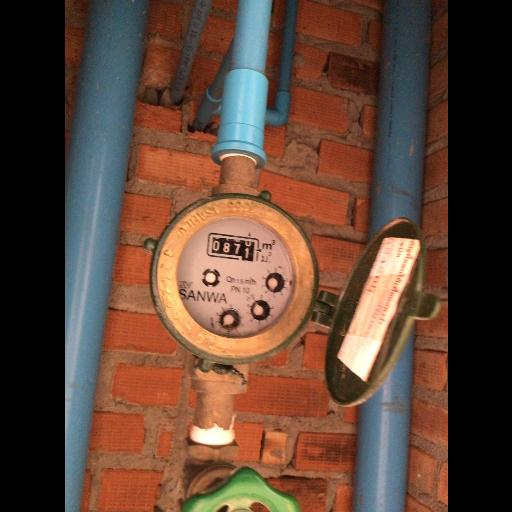0: (211, 236, 222, 254)
1: (240, 241, 254, 262)
7: (232, 239, 243, 257)
8: (220, 237, 233, 255)
border_water_meter_number: (204, 232, 262, 262)
